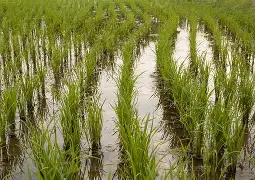crops: (0, 13, 248, 173), (19, 115, 82, 178), (3, 0, 98, 41), (205, 92, 248, 177), (107, 43, 146, 133), (125, 108, 171, 177), (174, 75, 212, 154), (0, 73, 24, 151), (178, 0, 247, 24), (95, 134, 123, 178)
